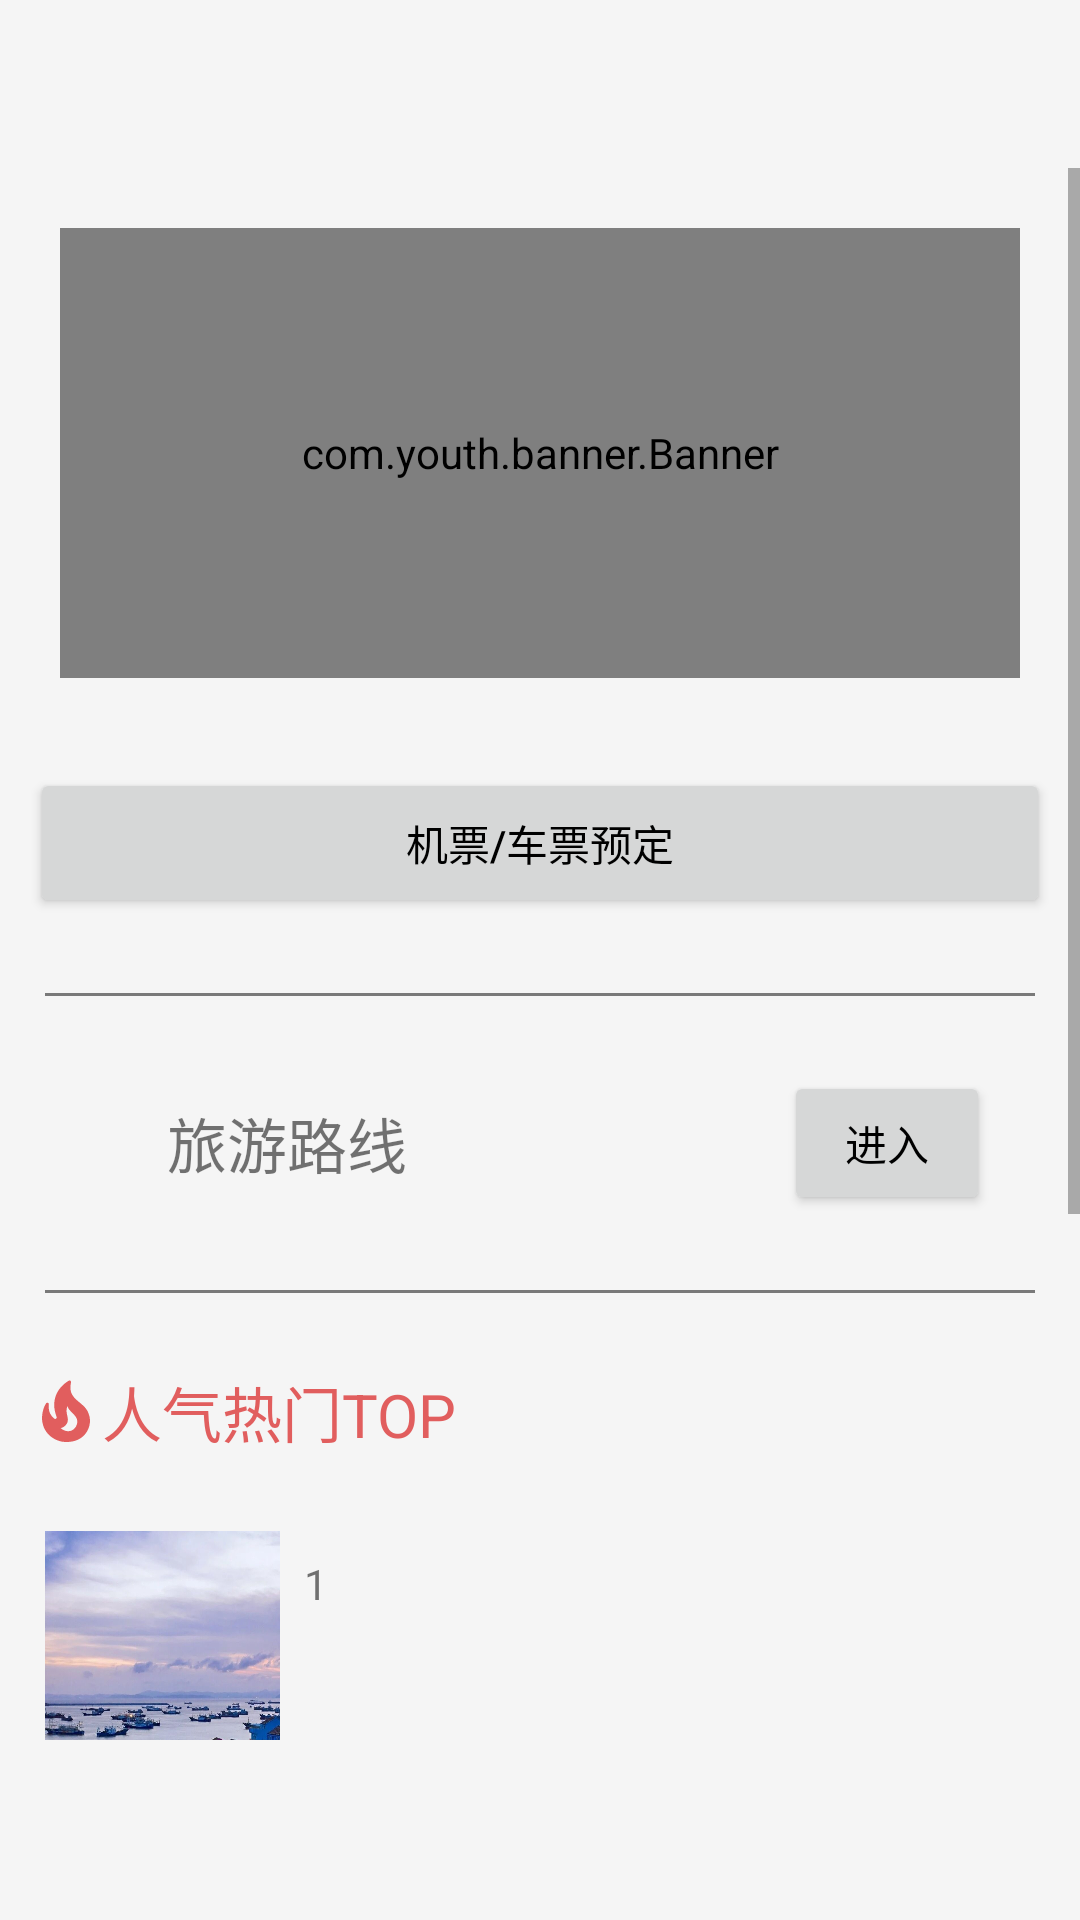

Named icons in this screenshot (1080*1920) and their centers, [x,y]:
local fire department: [66,1411]
